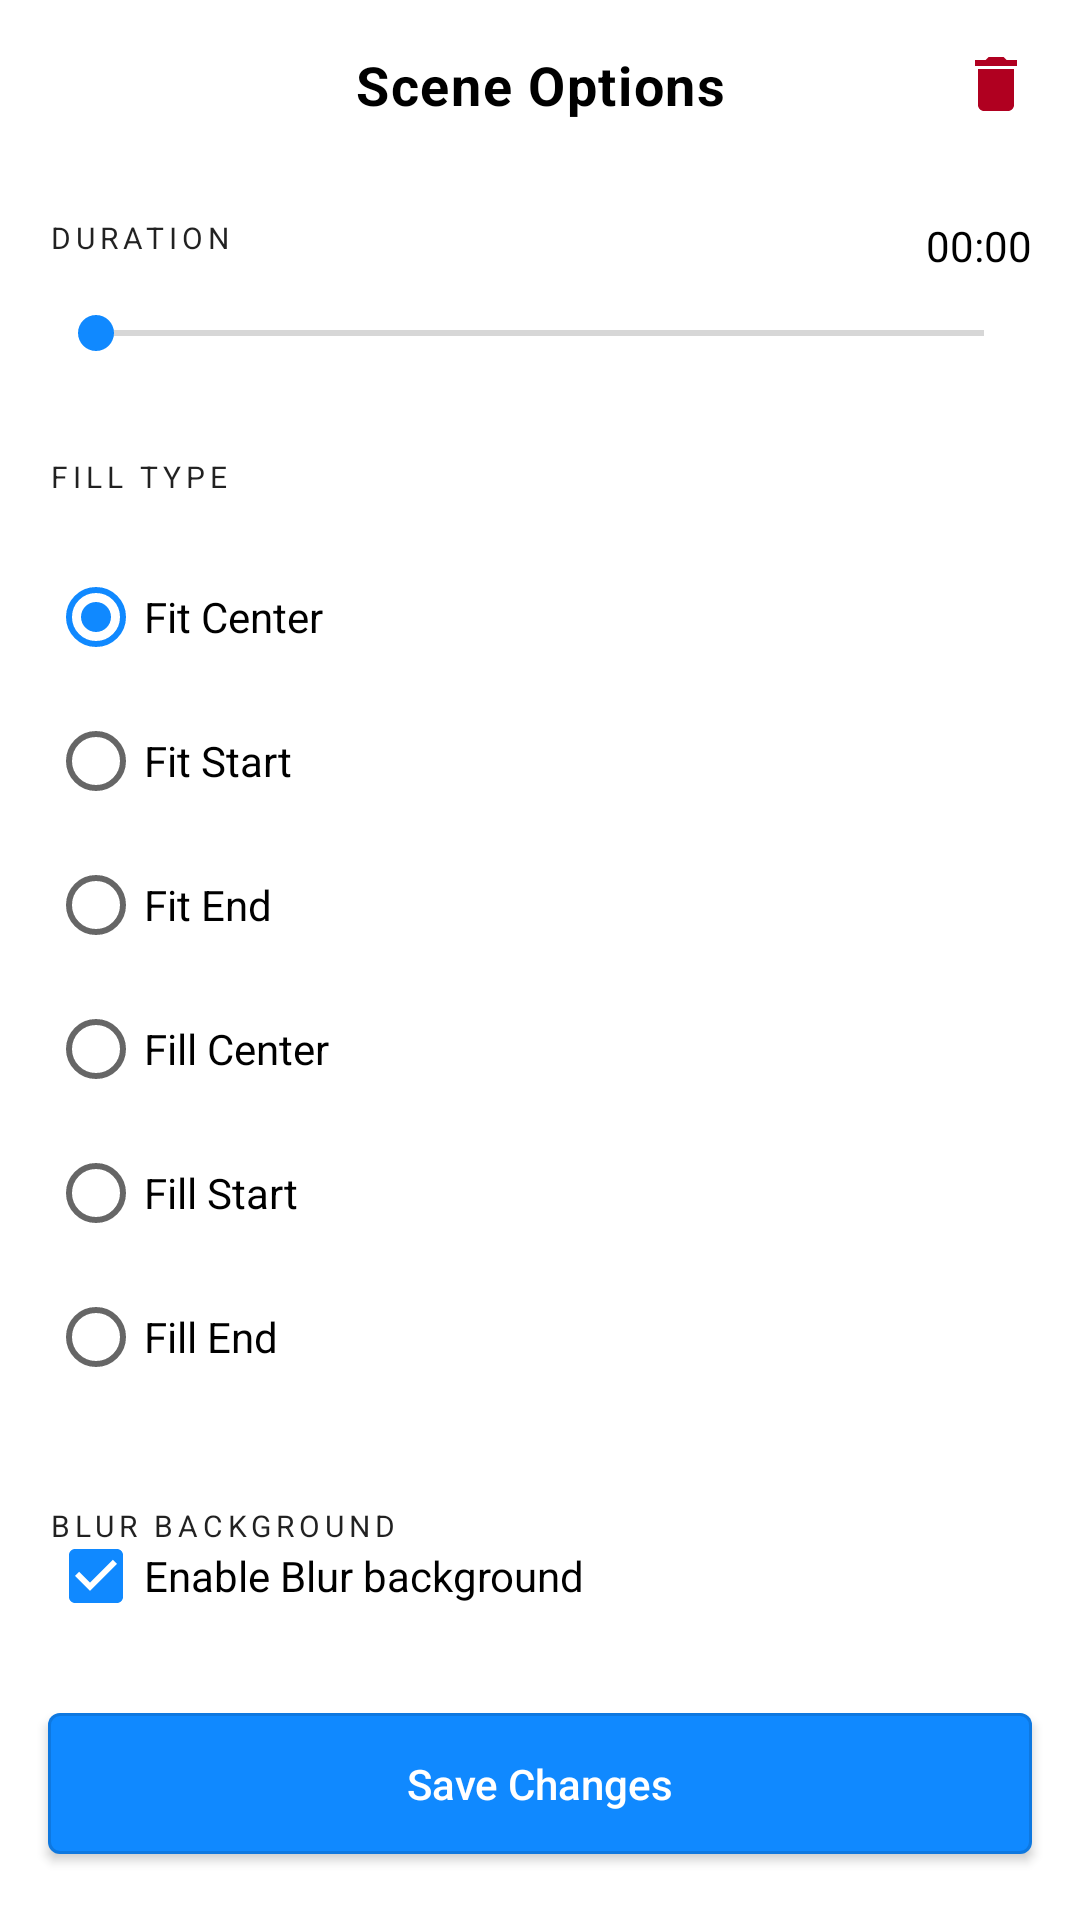

Icon bounding boxes for this 1080x1920 phone screenshot, format (x1, y1, x2, y2):
delete: (975, 57, 1017, 111)
